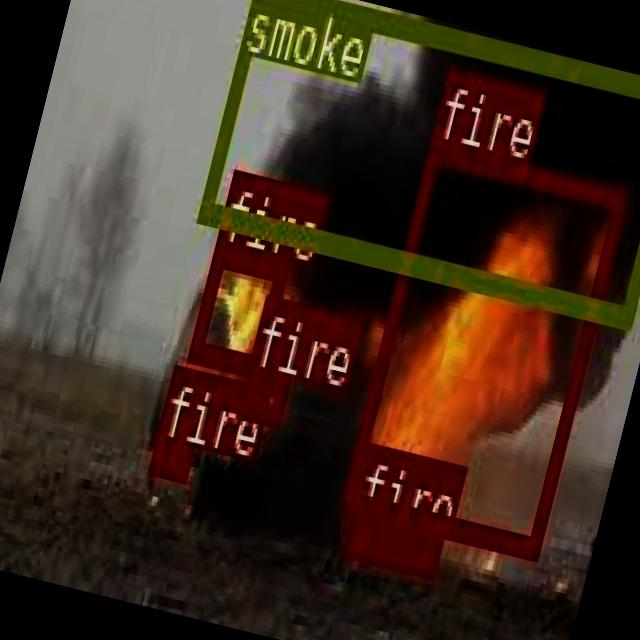fire: (339, 138, 626, 552), (186, 238, 288, 372), (342, 513, 442, 572), (234, 364, 290, 420), (147, 434, 190, 476)
smoke: (195, 0, 640, 325)
